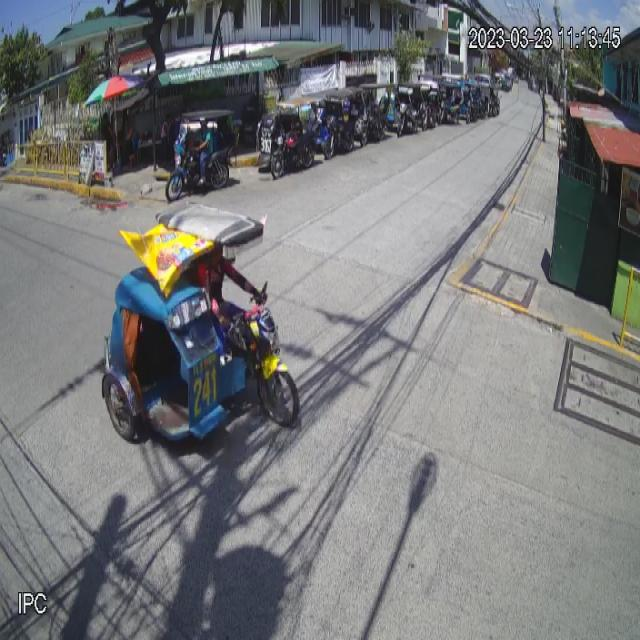Tricycle: (101, 201, 300, 444)
